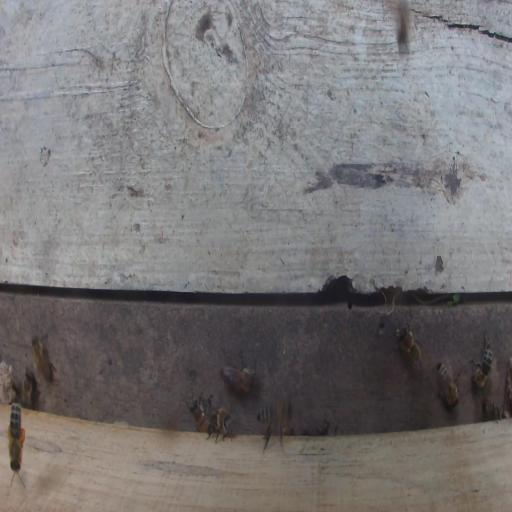bee: (220, 346, 257, 394), (256, 397, 298, 435), (6, 398, 26, 477), (393, 322, 423, 372), (468, 334, 492, 390), (31, 335, 57, 384), (436, 361, 459, 409), (189, 391, 214, 435), (207, 406, 235, 443), (21, 370, 37, 409), (481, 399, 502, 421)
